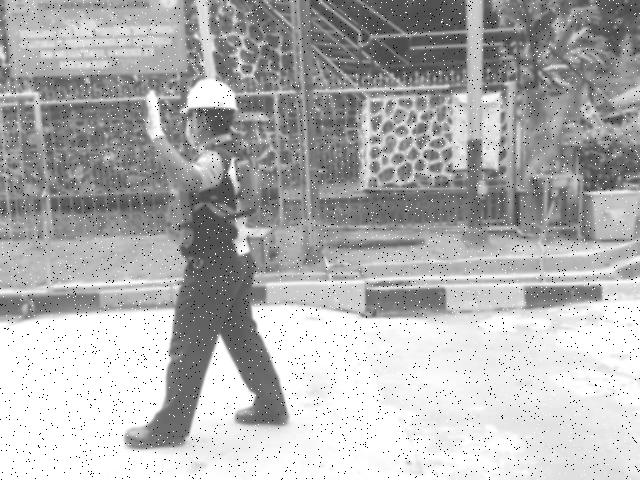gloves: (141, 89, 167, 142)
helmet: (176, 77, 240, 116)
mask: (182, 122, 197, 145)
safety-shoes: (122, 420, 190, 449), (234, 400, 291, 427)
vest: (159, 154, 265, 247)
